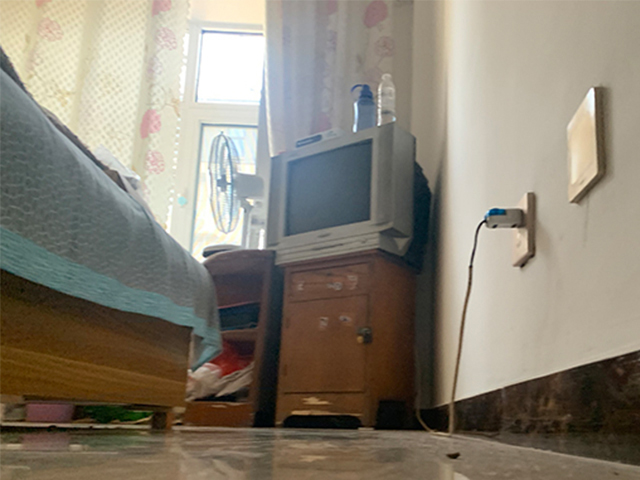bed: (1, 50, 218, 431)
cabinet: (185, 248, 420, 429)
wire: (414, 207, 521, 437)
